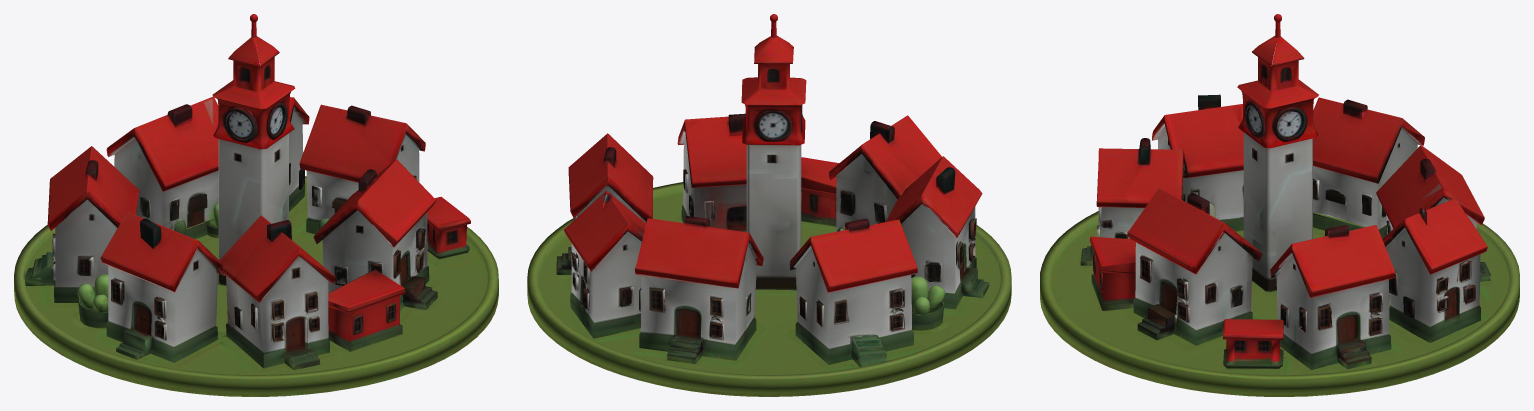
Rendered from town.glb.
The picture shows the model from 3 angles, left to right: view 1: azimuth 30°, elevation 25°; view 2: azimuth 150°, elevation 25°; view 3: azimuth 270°, elevation 25°; orthographic projection.
Parts seen in each view (by area): view 1: d36181de_4504_4293_95b3_ece947ec1bcf; view 2: d36181de_4504_4293_95b3_ece947ec1bcf; view 3: d36181de_4504_4293_95b3_ece947ec1bcf.
Part boxes in pixels (<box>): d36181de_4504_4293_95b3_ece947ec1bcf: <box>14,14,498,396</box>; d36181de_4504_4293_95b3_ece947ec1bcf: <box>527,14,1011,396</box>; d36181de_4504_4293_95b3_ece947ec1bcf: <box>1040,14,1519,396</box>.
Bounding box in the file's own units: 0.9995 × 0.6421 × 0.9995.
1 material, 1 textured.
